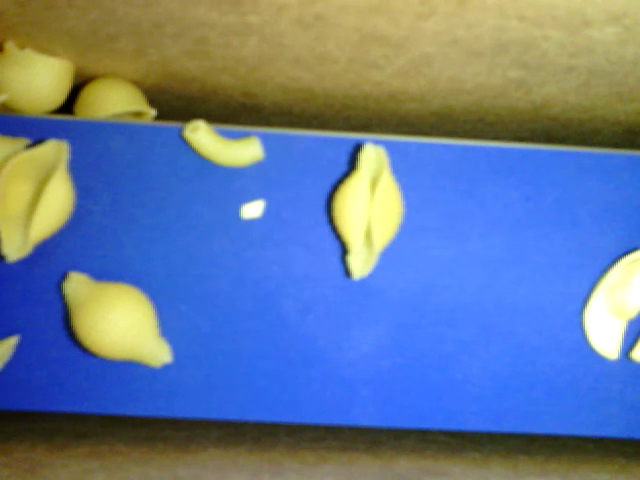elbow: (183, 116, 274, 167)
penne: (1, 324, 17, 369)
shell: (322, 136, 407, 283), (59, 269, 176, 373), (1, 132, 76, 268), (1, 38, 73, 120), (76, 76, 162, 126)
tortellini: (579, 245, 639, 369)
